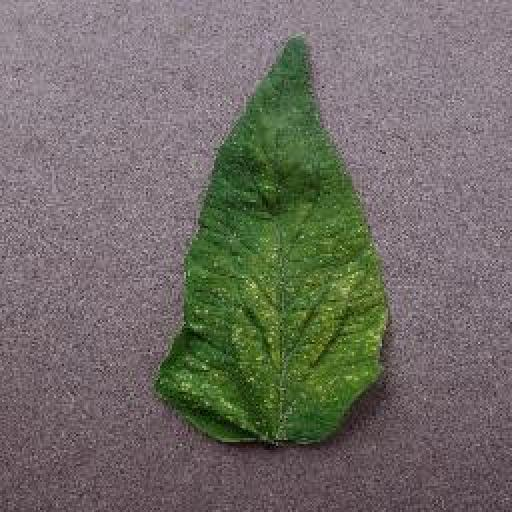Spider Mites: (154, 32, 390, 444)
